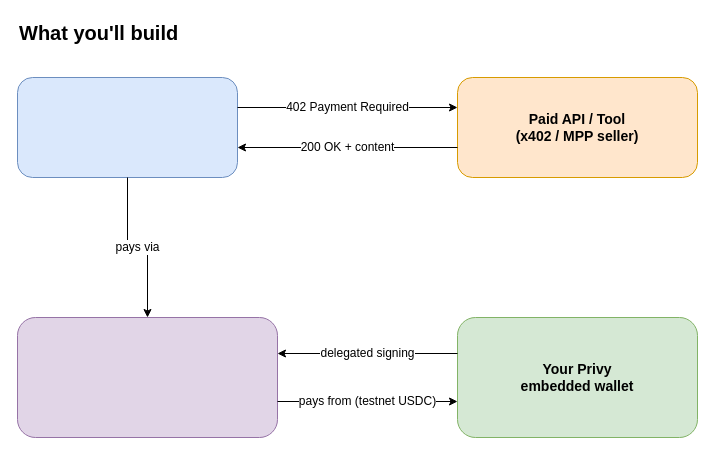
This 715x455 diagram has some shape labels left out. Each missing label, with the box of its shape:
AgentCore Payments (Payment Manager / Connector / Session): (16, 316, 278, 438)
Your Agent (AgentCore): (16, 76, 238, 178)
